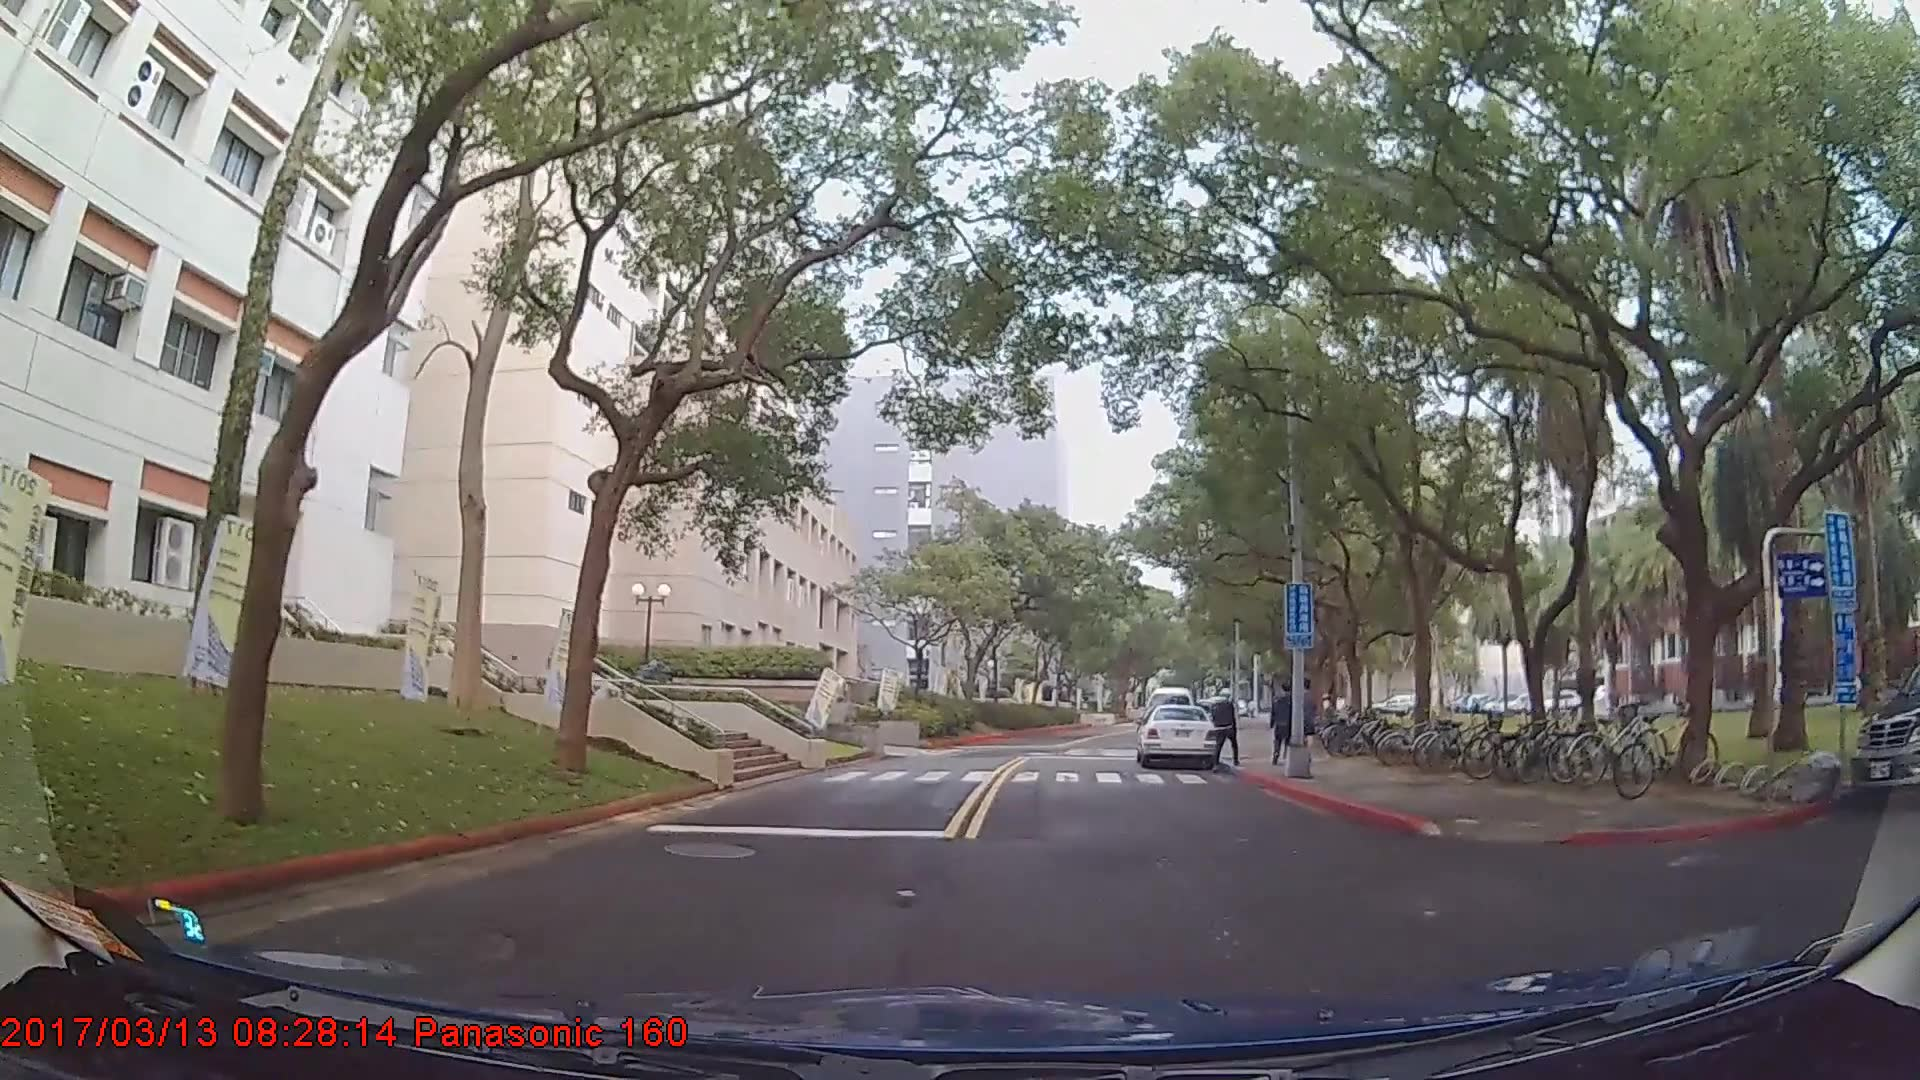pedestrian: (1266, 684, 1302, 769), (1213, 681, 1241, 761)
vehicle: (1133, 701, 1221, 768)
